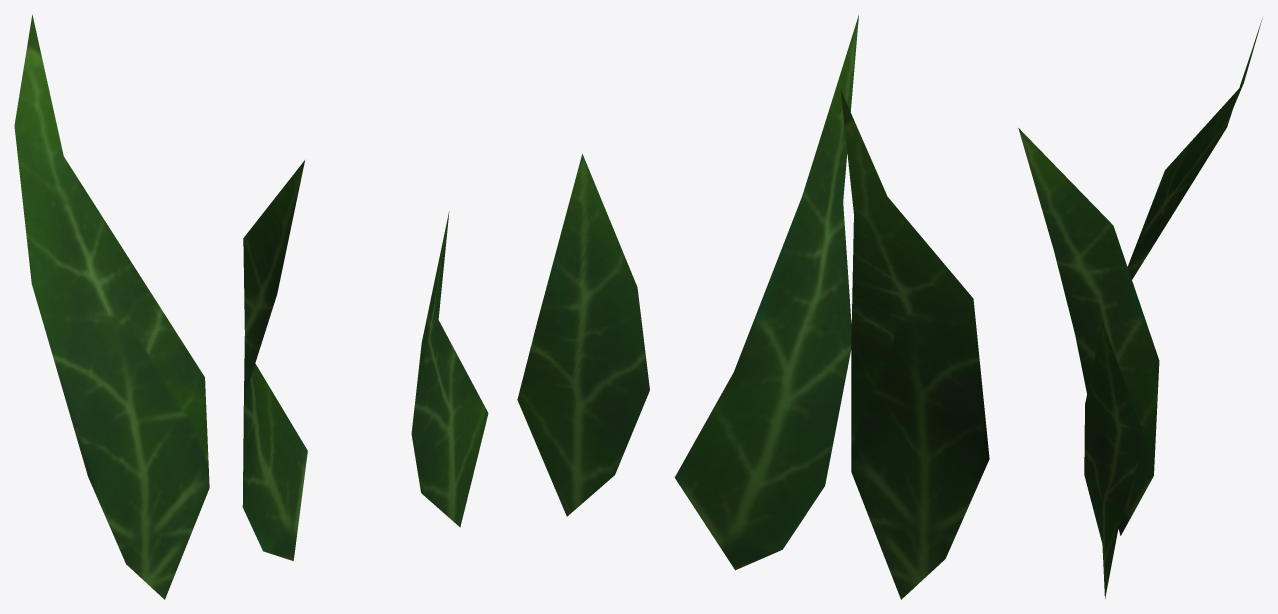
Rendered from SM_Tree_And_Bushes.fbx_SM_Bush_9.fbx.
3 renders of one model, left to right at view 1: azimuth 30°, elevation 25°; view 2: azimuth 150°, elevation 25°; view 3: azimuth 270°, elevation 25°, orthographic. The views are drawn at different scales.
Visible parts, largest first — view 1: SM_Tree_19; view 2: SM_Tree_19; view 3: SM_Tree_19.
Boxes of the visible parts, x1,y1,x2,y2 form: SM_Tree_19: (14, 14, 488, 599); SM_Tree_19: (517, 15, 989, 599); SM_Tree_19: (1018, 18, 1262, 598).
Size of the model in its own units: 1729 by 2035 by 1009.
